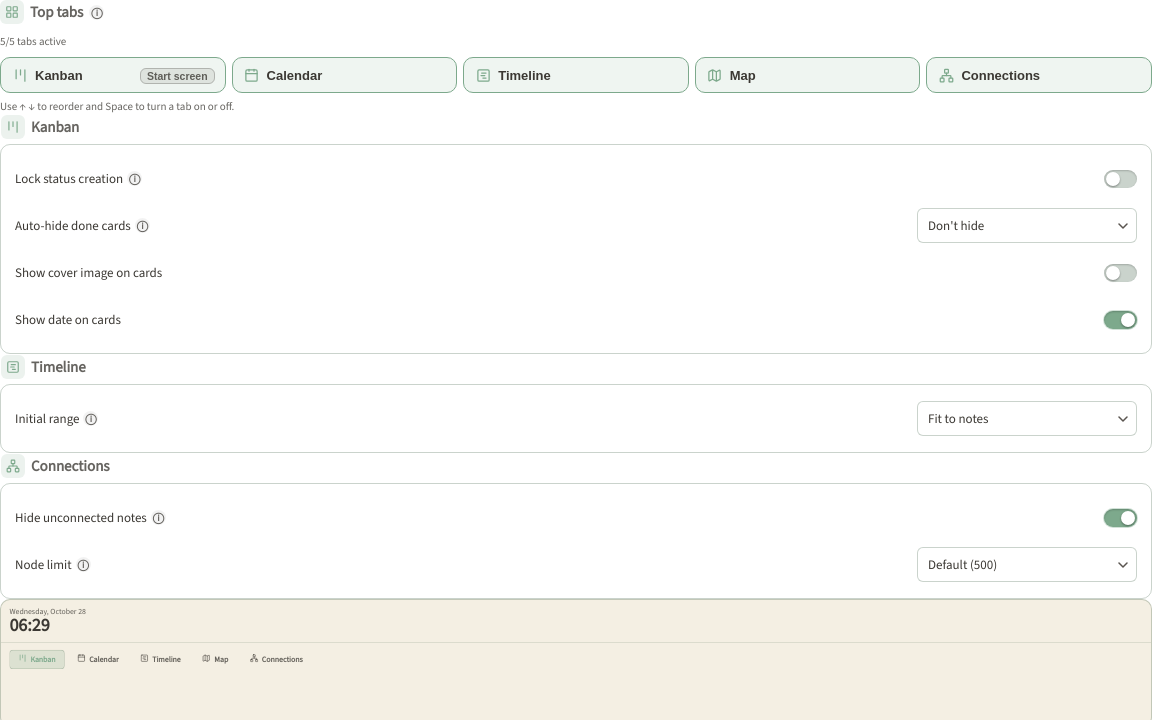
it: DashboardTabsSection (W7 §7.3 / W23-a) › 타임라인 탭을 끄면 그 설정 카드도 사라진다
The width and height of the screenshot is (1152, 720).
Click the button with test id "dashboard-tabs-item-timeline" at (576, 75), box x1=463 y1=57 x2=689 y2=93
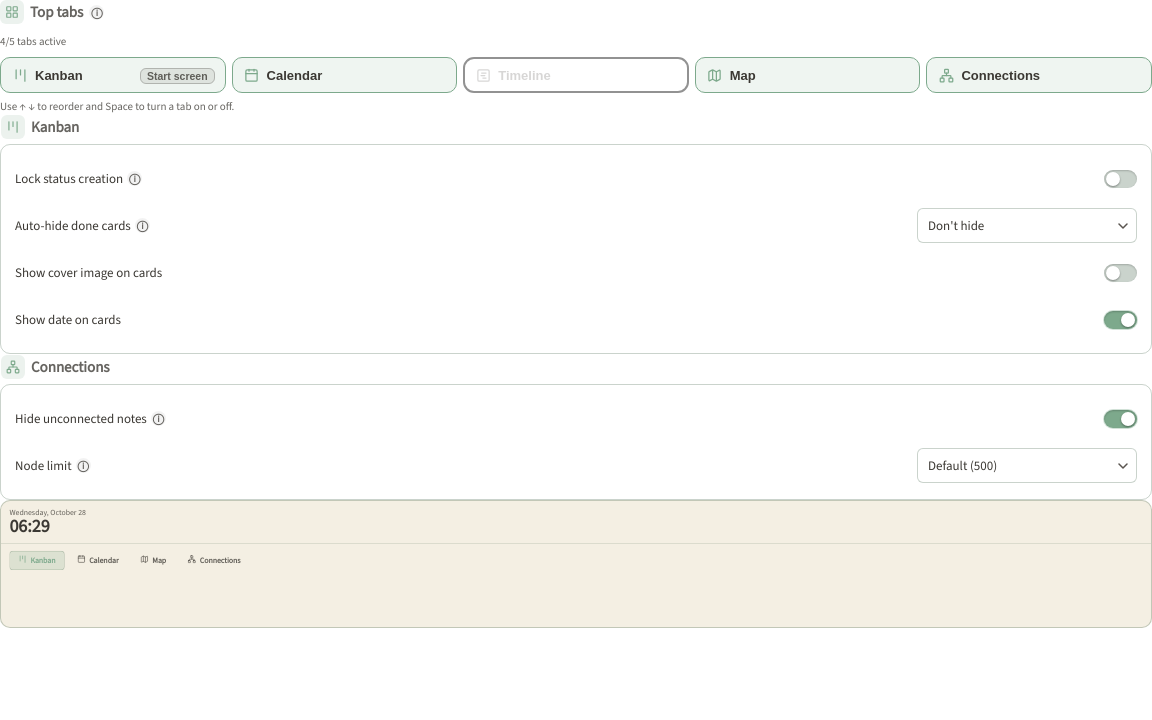
Now the element with test id "settings-dashboard-timeline-group" is gone
